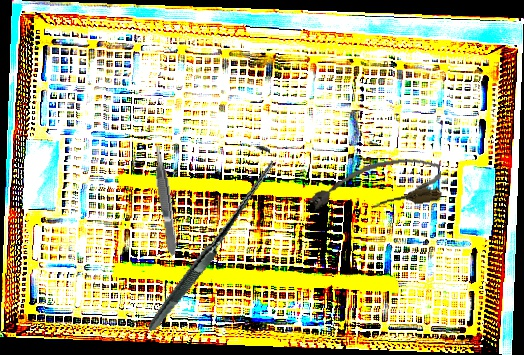Cannula: (305, 152, 445, 220)
Hook Surgical: (112, 143, 306, 332)
Tissue Forceps: (151, 141, 179, 257)
